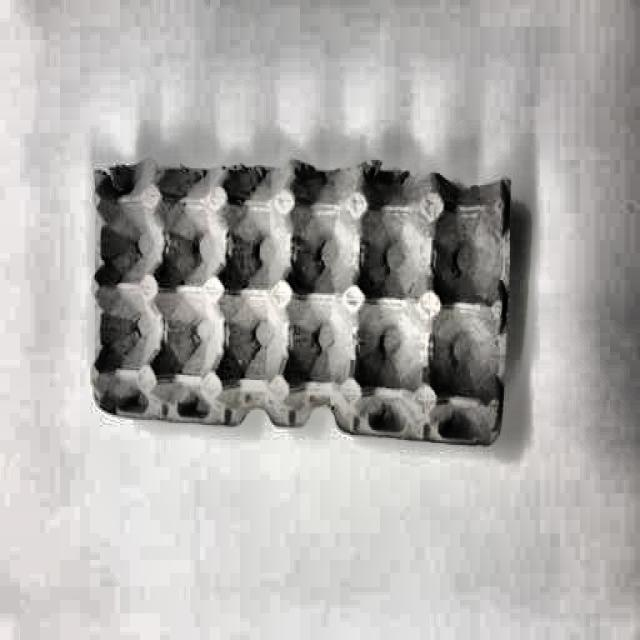paper: (87, 154, 510, 453)
